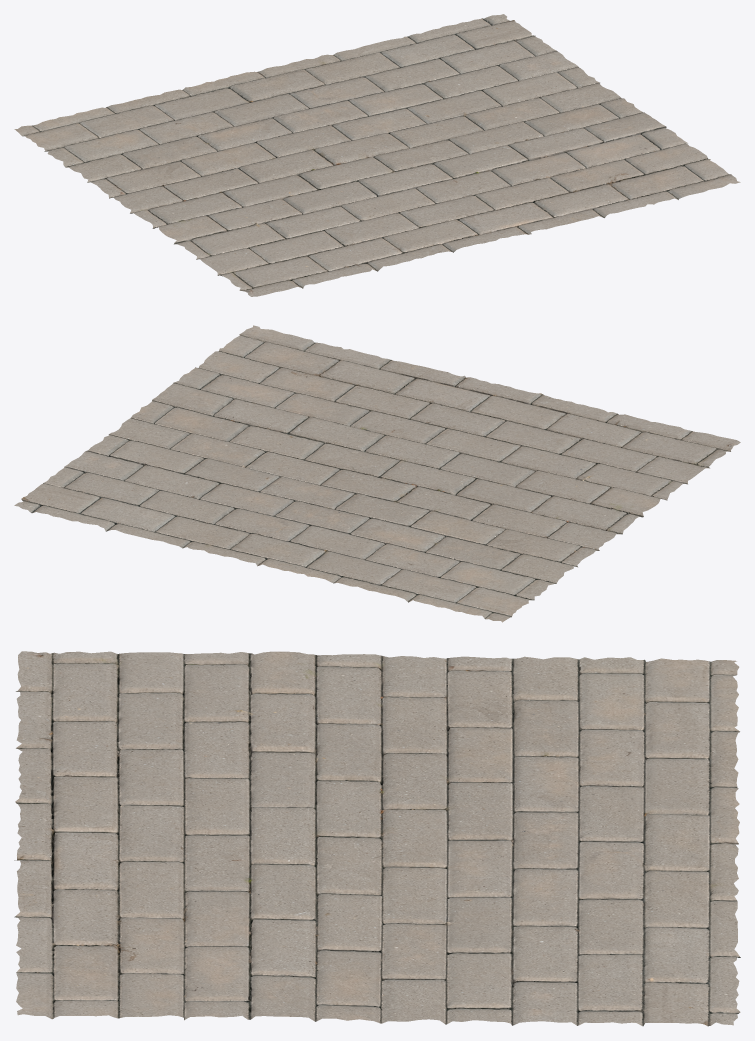
File: stone_tiles_texture_3d_scan.glb
The picture shows the model from 3 angles, top to bottom: view 1: azimuth 30°, elevation 25°; view 2: azimuth 150°, elevation 25°; view 3: azimuth 270°, elevation 25°; orthographic projection. The views are drawn at different scales.
Parts seen in each view (by area): view 1: Object_2; view 2: Object_2; view 3: Object_2.
Part boxes in pixels (box(x1,y1,x2,y2)): Object_2: box(14, 14, 740, 296); Object_2: box(14, 325, 740, 622); Object_2: box(14, 651, 740, 1026).
Size of the model in its own units: 1.31 by 0.0324 by 1.11.
1 material, 1 textured.
